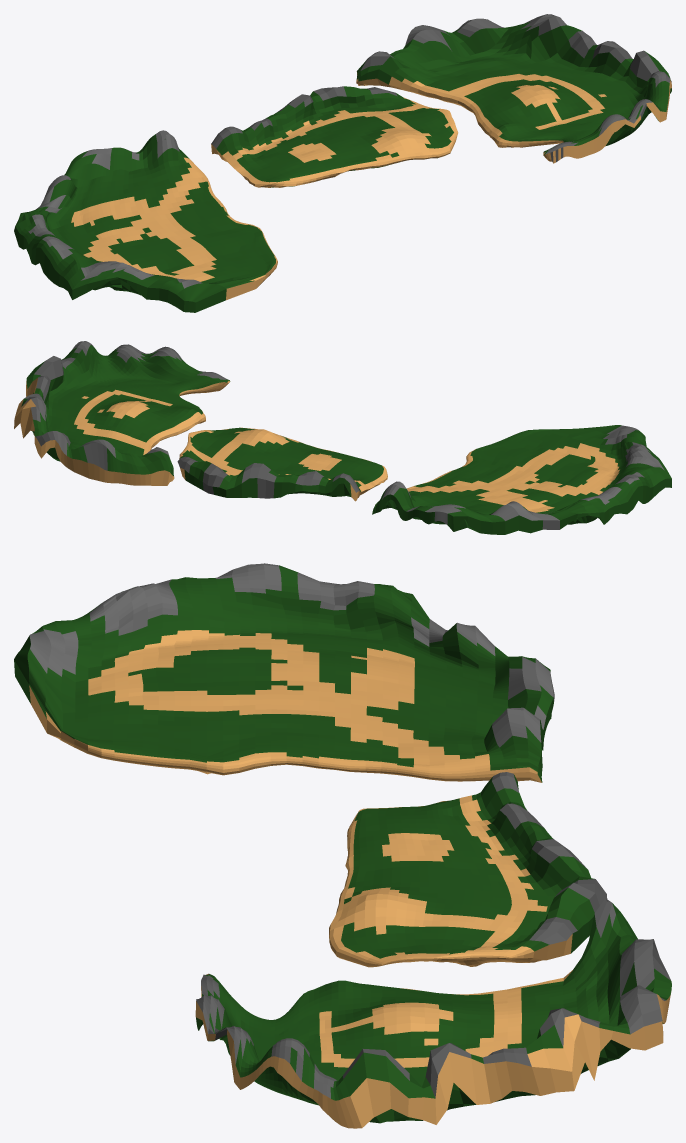
File: greenland.glb
3 renders of one model, top to bottom at view 1: azimuth 30°, elevation 25°; view 2: azimuth 150°, elevation 25°; view 3: azimuth 270°, elevation 25°, orthographic. The views are drawn at different scales.
Parts seen in each view (by area): view 1: Plane.002, Plane.001, Plane; view 2: Plane.002, Plane.001, Plane; view 3: Plane.002, Plane.001, Plane.
Part boxes in pixels (x1,y1,x2,y2): Plane.002: (14,130,277,312); Plane.001: (356,14,671,163); Plane: (211,86,458,187); Plane.002: (372,425,671,534); Plane.001: (14,341,230,485); Plane: (177,427,387,501); Plane.002: (14,563,554,782); Plane.001: (195,898,671,1128); Plane: (329,772,607,967).
Bounding box in the file's own units: 162 × 11.96 × 85.29.
